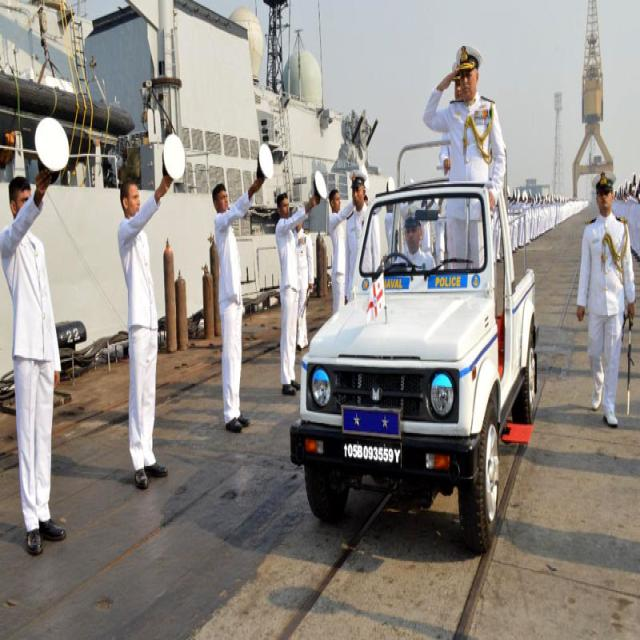plate: (342, 436, 404, 466)
